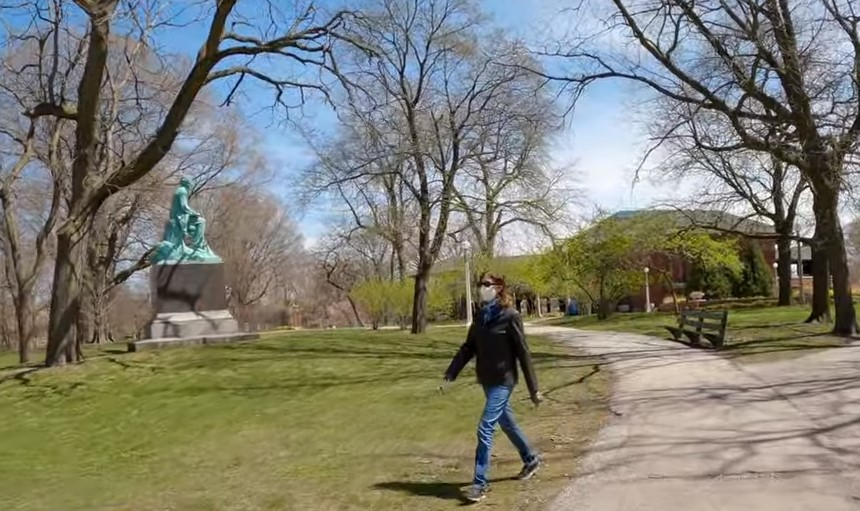face_with_mask: (478, 271, 501, 301)
